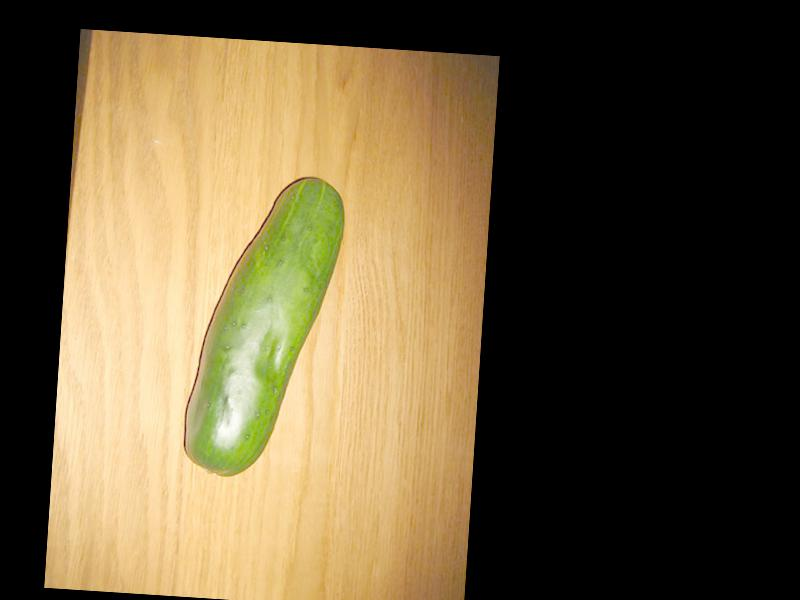Cucumber: (181, 168, 345, 478)
